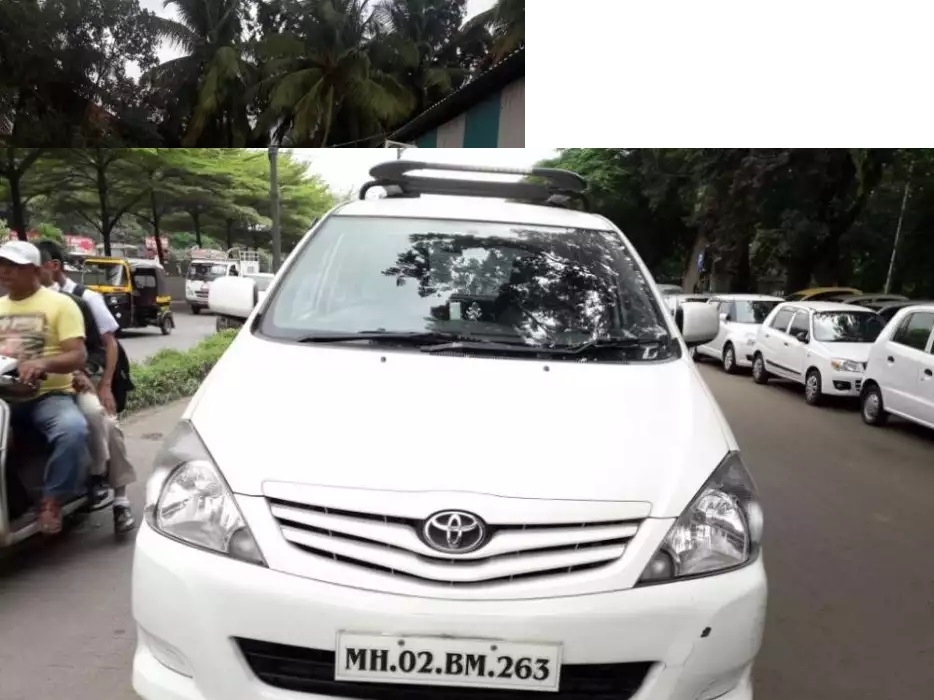licenseplate: (332, 626, 562, 700)
